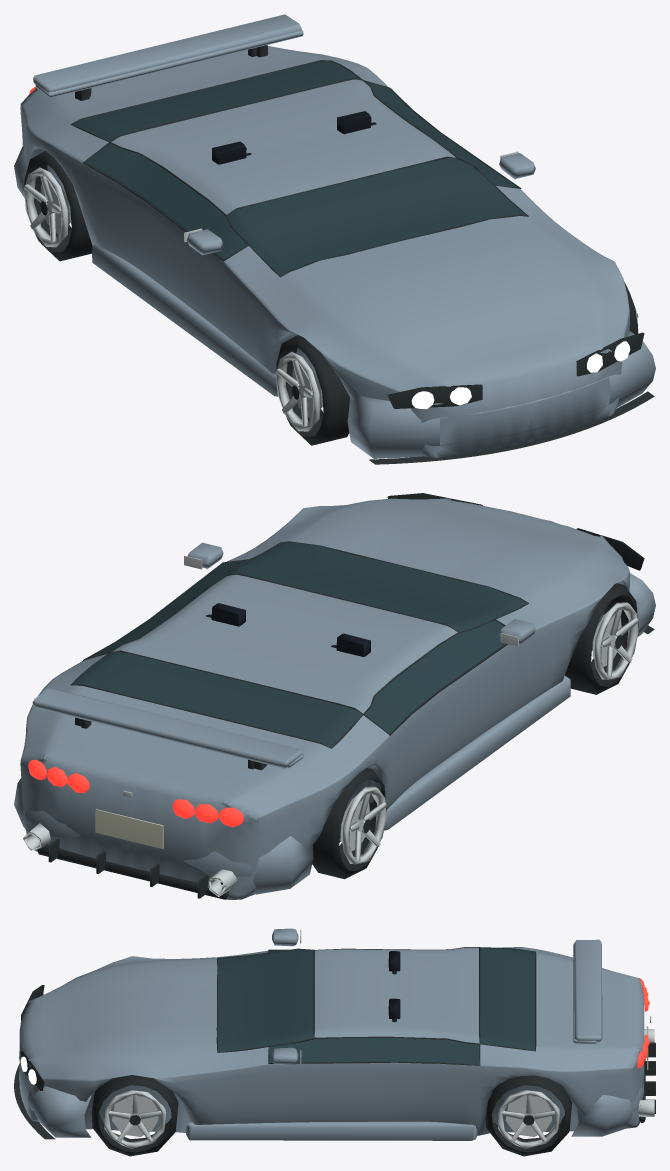
File: veylune-qorane.glb
The picture shows the model from 3 angles, top to bottom: view 1: azimuth 30°, elevation 25°; view 2: azimuth 150°, elevation 25°; view 3: azimuth 270°, elevation 25°; orthographic projection. The views are drawn at different scales.
Parts seen in each view (by area): view 1: scocca, cofano, tetto, cristallo_ant, porta_sx, portellone, cristallo_post, paraurti_ant, cristallo_sx, spoiler, minigonna_sx, ruota_ant_sx_gomma (+16 smaller); view 2: scocca, tetto, cofano, portellone, cristallo_ant, cristallo_post, porta_sx, spoiler, cristallo_sx, minigonna_sx, paraurti_post, ruota_post_sx_gomma (+15 smaller); view 3: scocca, cofano, tetto, porta_dx, cristallo_ant, portellone, cristallo_post, minigonna_dx, cristallo_dx, spoiler, ruota_ant_dx_gomma, ruota_post_dx_gomma (+14 smaller).
Boxes of the visible parts, x1,y1,x2,y2 form: scocca: (20, 49, 629, 458); cofano: (281, 216, 606, 376); tetto: (111, 79, 456, 214); cristallo_ant: (227, 158, 526, 276); porta_sx: (83, 164, 238, 345); portellone: (41, 46, 327, 123); cristallo_post: (72, 61, 361, 141); paraurti_ant: (347, 331, 655, 458); cristallo_sx: (85, 143, 247, 259); spoiler: (33, 14, 301, 92); minigonna_sx: (92, 244, 278, 396); ruota_ant_sx_gomma: (276, 335, 349, 445); scocca: (20, 498, 629, 899); tetto: (113, 574, 457, 713); cofano: (282, 498, 606, 602); portellone: (37, 685, 330, 807); cristallo_ant: (228, 542, 527, 632); cristallo_post: (72, 651, 362, 748); porta_sx: (386, 637, 531, 809); spoiler: (32, 688, 302, 768); cristallo_sx: (364, 620, 505, 733); minigonna_sx: (384, 675, 570, 830); paraurti_post: (14, 778, 313, 894); ruota_post_sx_gomma: (312, 768, 386, 879); scocca: (19, 947, 644, 1135); cofano: (42, 958, 217, 1064); tetto: (314, 947, 479, 1043); porta_dx: (253, 1062, 479, 1135); cristallo_ant: (217, 949, 313, 1052); portellone: (536, 952, 644, 1053); cristallo_post: (480, 947, 535, 1050); minigonna_dx: (186, 1121, 477, 1140); cristallo_dx: (269, 1038, 479, 1064); spoiler: (574, 939, 602, 1042); ruota_ant_dx_gomma: (91, 1075, 178, 1156); ruota_post_dx_gomma: (485, 1075, 572, 1156).
Bounding box in the file's own units: 2.36 × 1.01 × 5.
